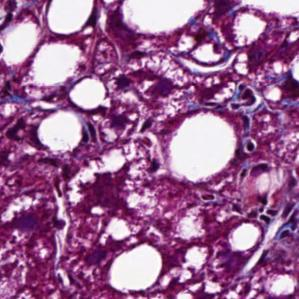inflammation: (110, 63, 182, 104), (227, 86, 265, 157), (249, 204, 299, 242), (74, 123, 104, 149)
